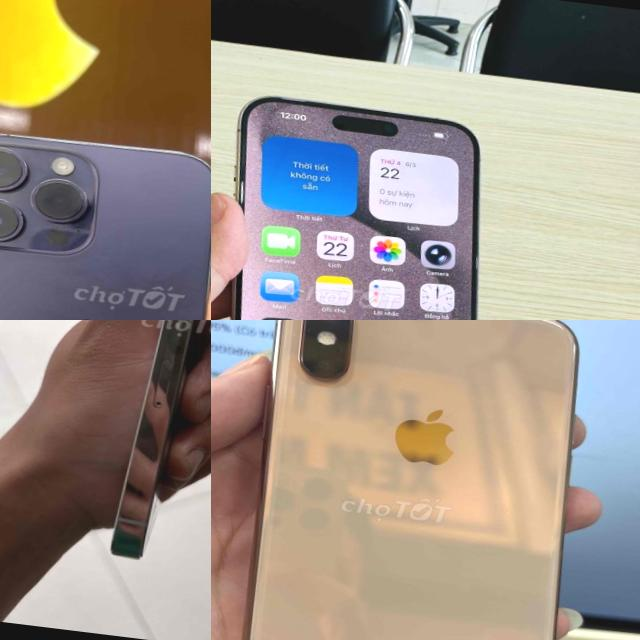gen_14: (0, 117, 211, 320), (97, 320, 211, 575)
gen_15: (211, 77, 551, 320)
gen_x_xs: (242, 320, 578, 640)
scratch: (170, 320, 192, 348), (290, 325, 308, 340)
